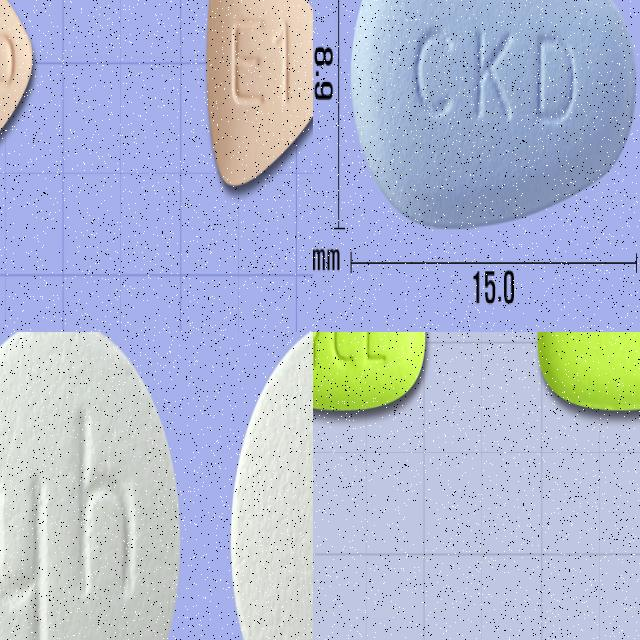Entecabell: (205, 0, 313, 187)
Levomicin: (0, 332, 183, 640), (229, 332, 313, 640)
Teva Azathioprine Tab: (349, 0, 636, 230)
Zecla Tab: (313, 332, 425, 412), (536, 332, 640, 410)
